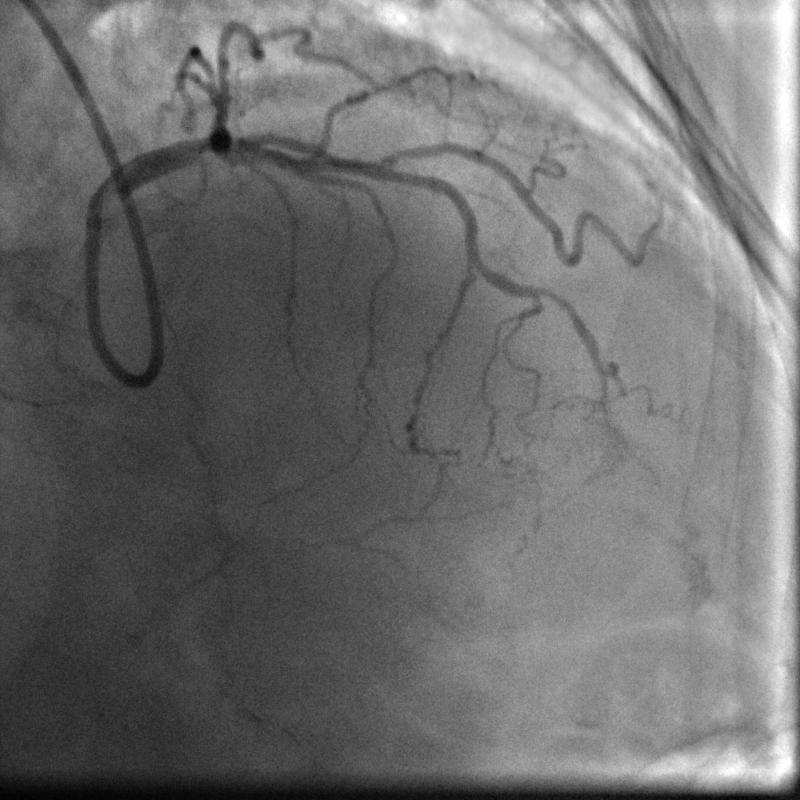Stenosis: (187, 122, 215, 167)
